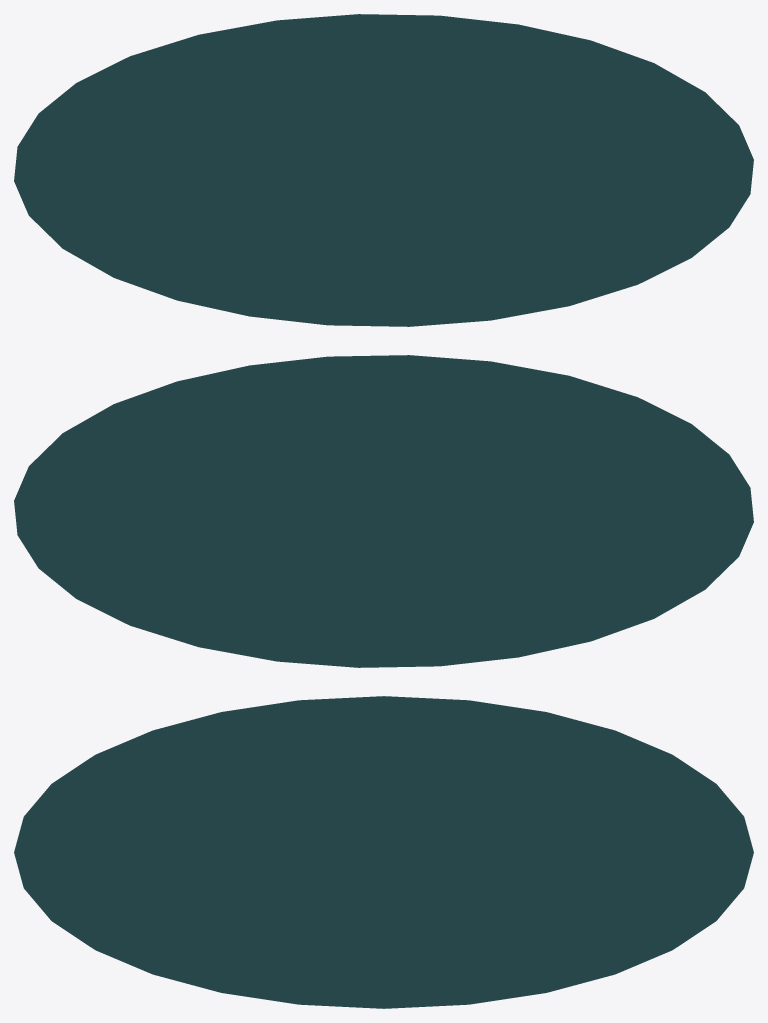
Rendered from CircleBase.FBX.
3 views of the same model, one above another, from view 1: azimuth 30°, elevation 25°; view 2: azimuth 150°, elevation 25°; view 3: azimuth 270°, elevation 25° (orthographic).
Visible parts, largest first — view 1: CircleMapBse; view 2: CircleMapBse; view 3: CircleMapBse.
Part boxes in pixels (x1,y1,x2,y2): CircleMapBse: (14, 14, 753, 326); CircleMapBse: (14, 355, 753, 667); CircleMapBse: (14, 696, 753, 1008).
Bounding box in the file's own units: 272 × 1.67e-14 × 272.
